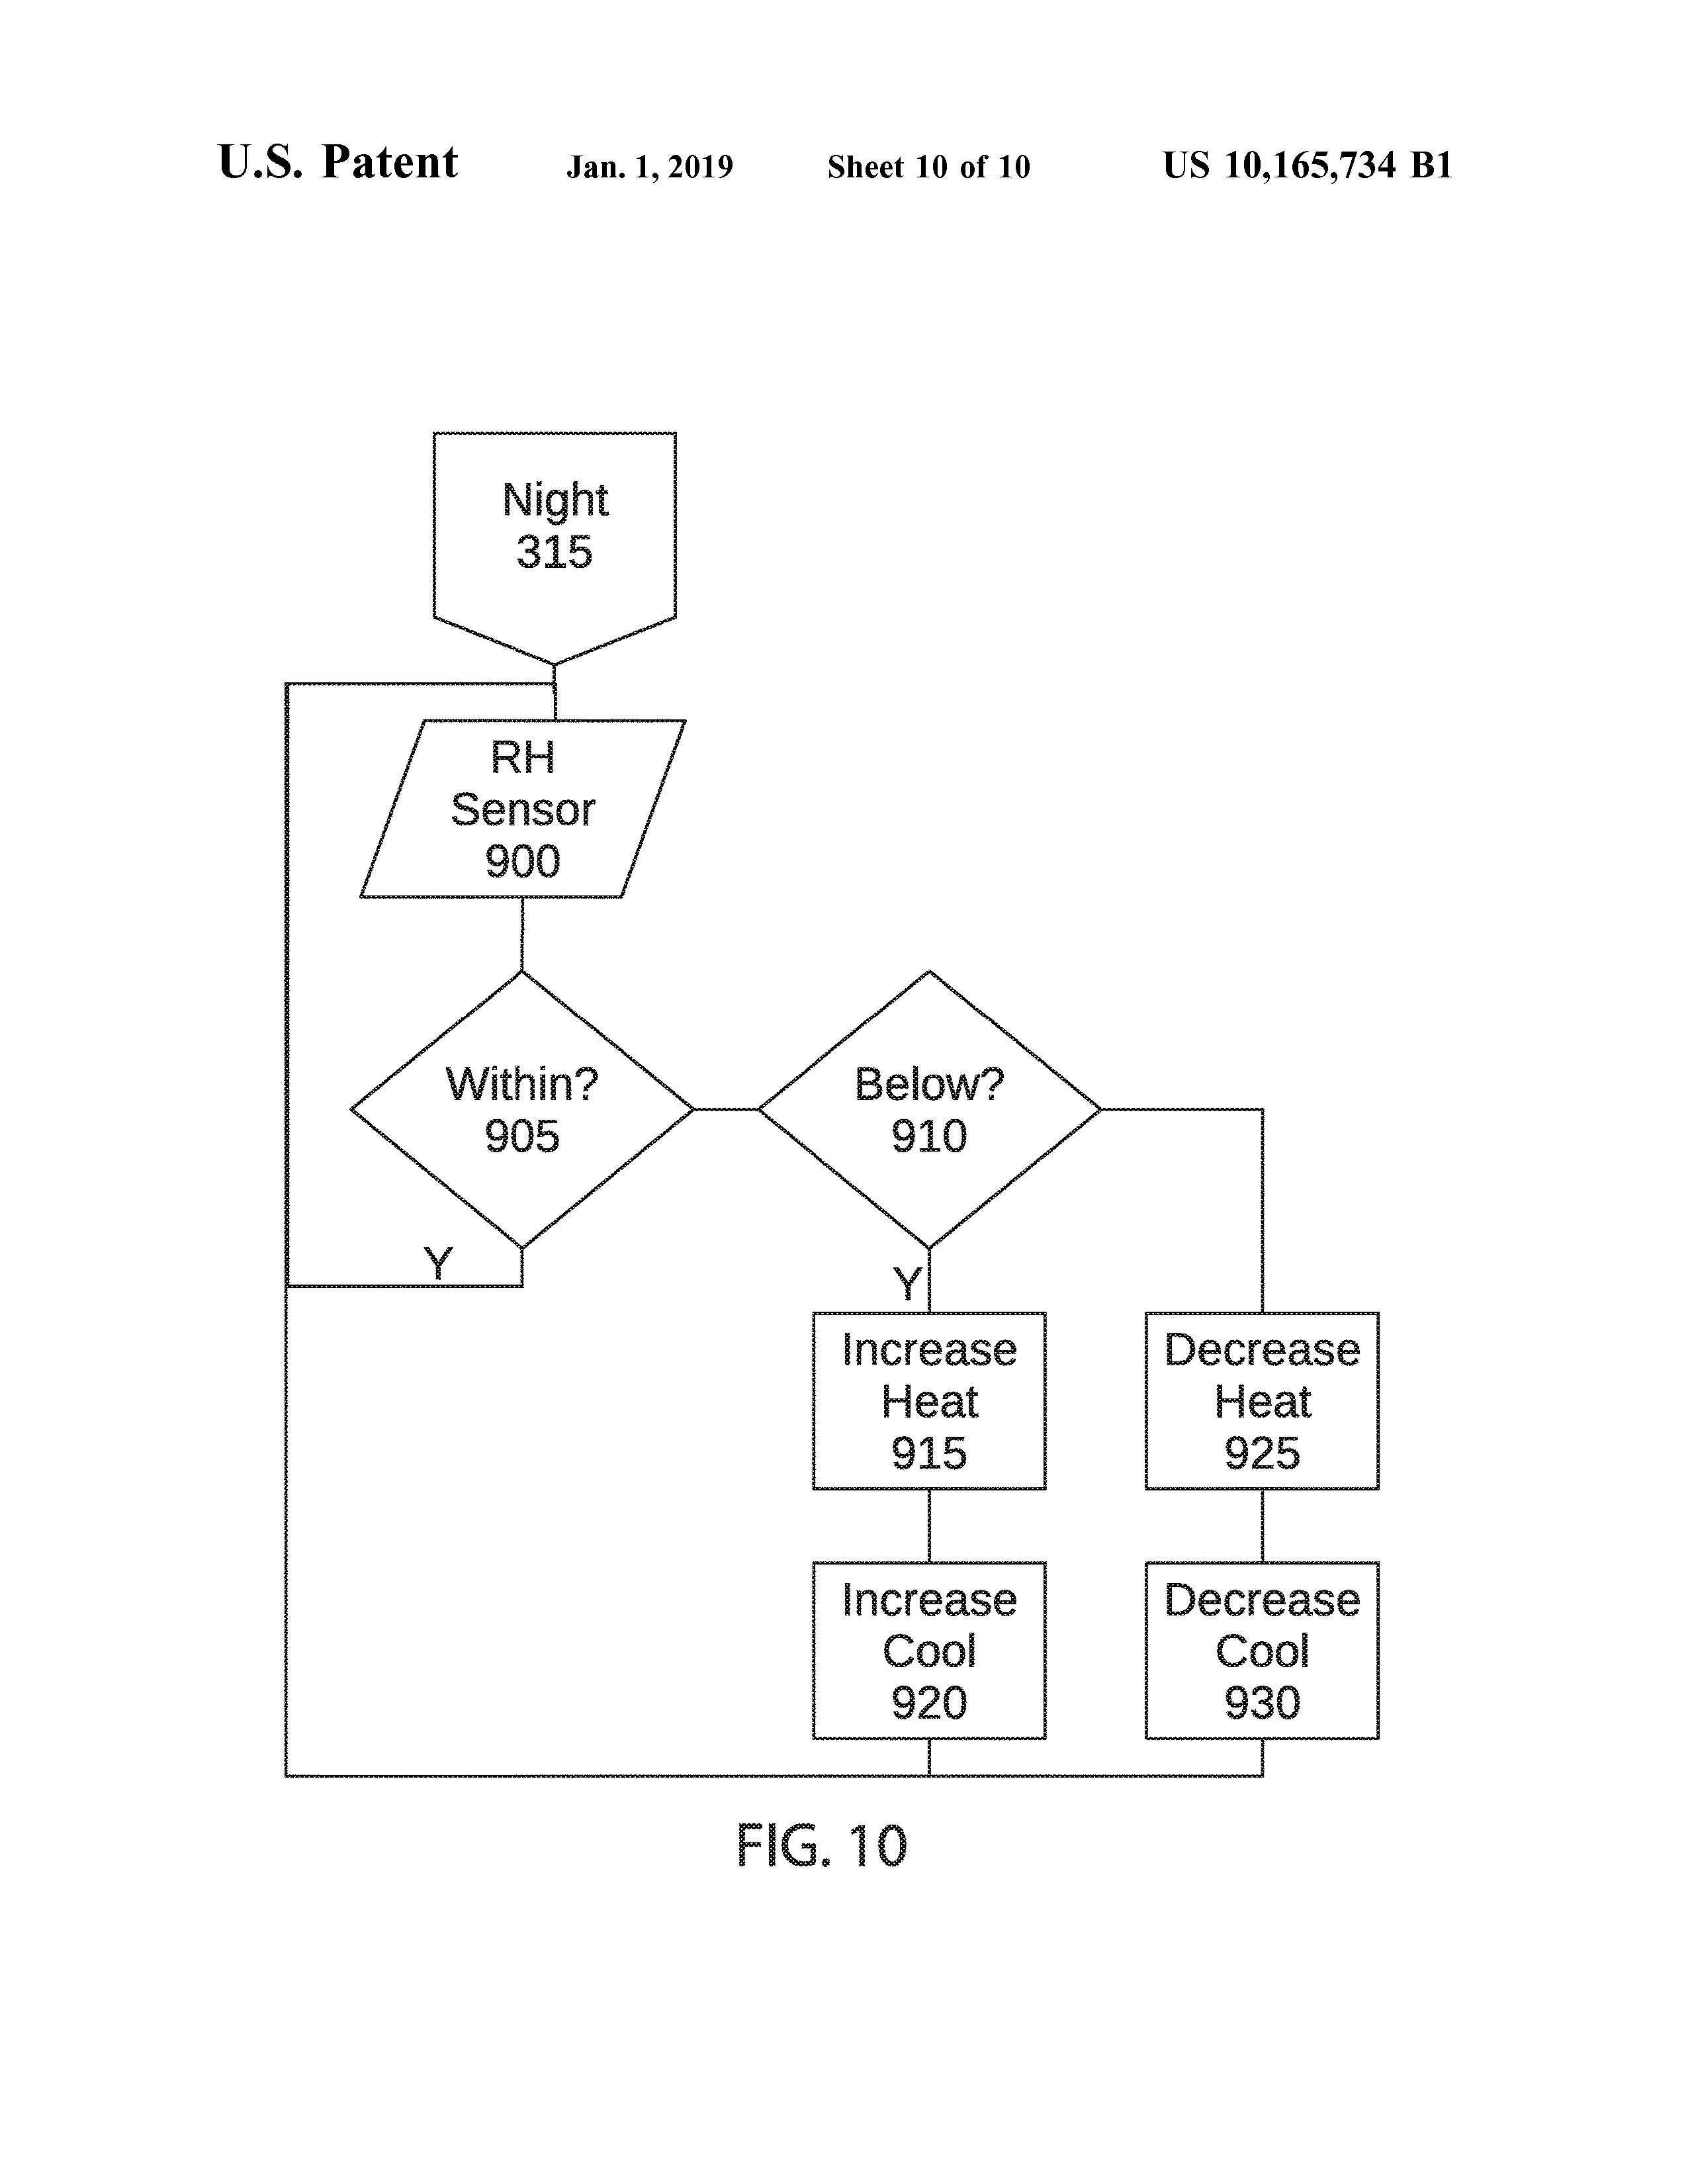patent image: (249, 394, 1429, 1942)
